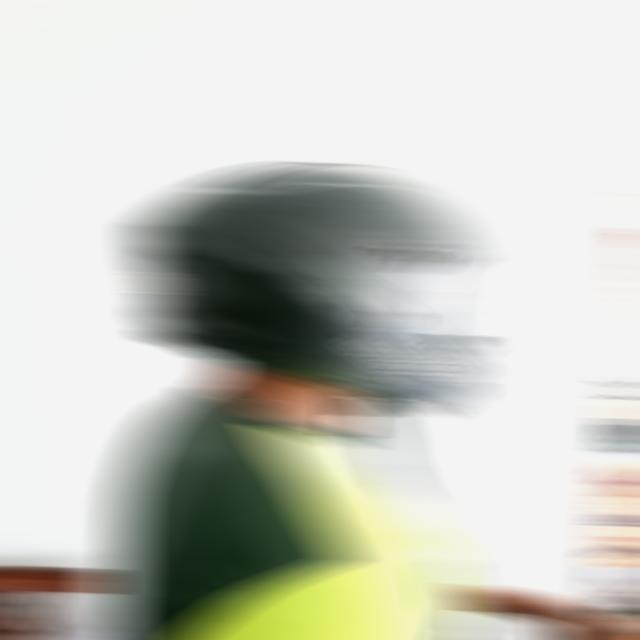With Helmet: (130, 158, 488, 420)
